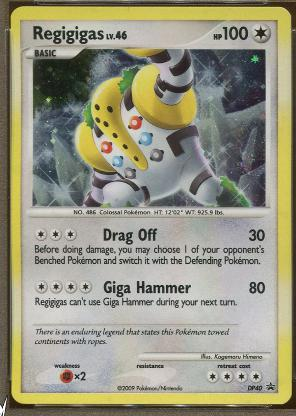Card: (10, 6, 292, 408)
